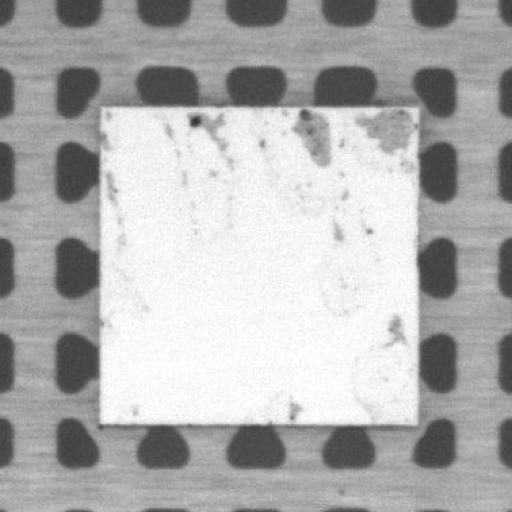DIE_INK: (96, 104, 417, 419)
